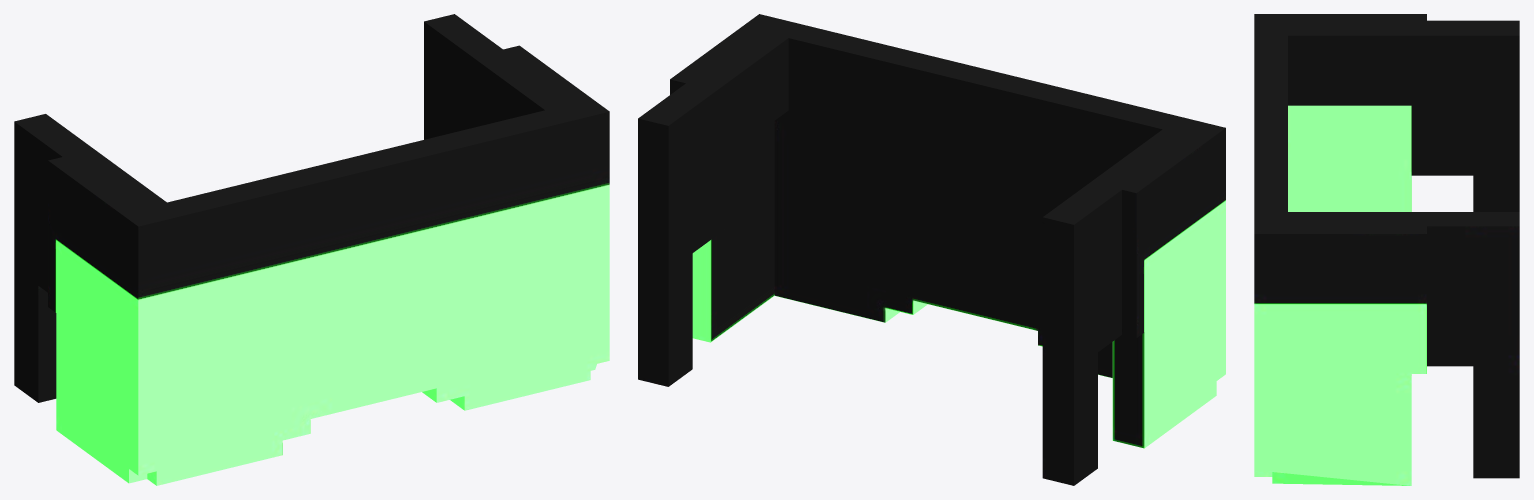
Rendered from blade.glb.
3 views of the same model, side by side, from view 1: azimuth 30°, elevation 25°; view 2: azimuth 150°, elevation 25°; view 3: azimuth 270°, elevation 25° (orthographic). The views are drawn at different scales.
Parts seen in each view (by area): view 1: giant_blade.001; view 2: giant_blade.001; view 3: giant_blade.001.
Part boxes in pixels (x1,y1,x2,y2): giant_blade.001: [14, 14, 609, 485]; giant_blade.001: [638, 14, 1225, 485]; giant_blade.001: [1254, 14, 1519, 485].
Size of the model in its own units: 3.37 by 1.8 by 1.72.
1 material, 1 textured.
